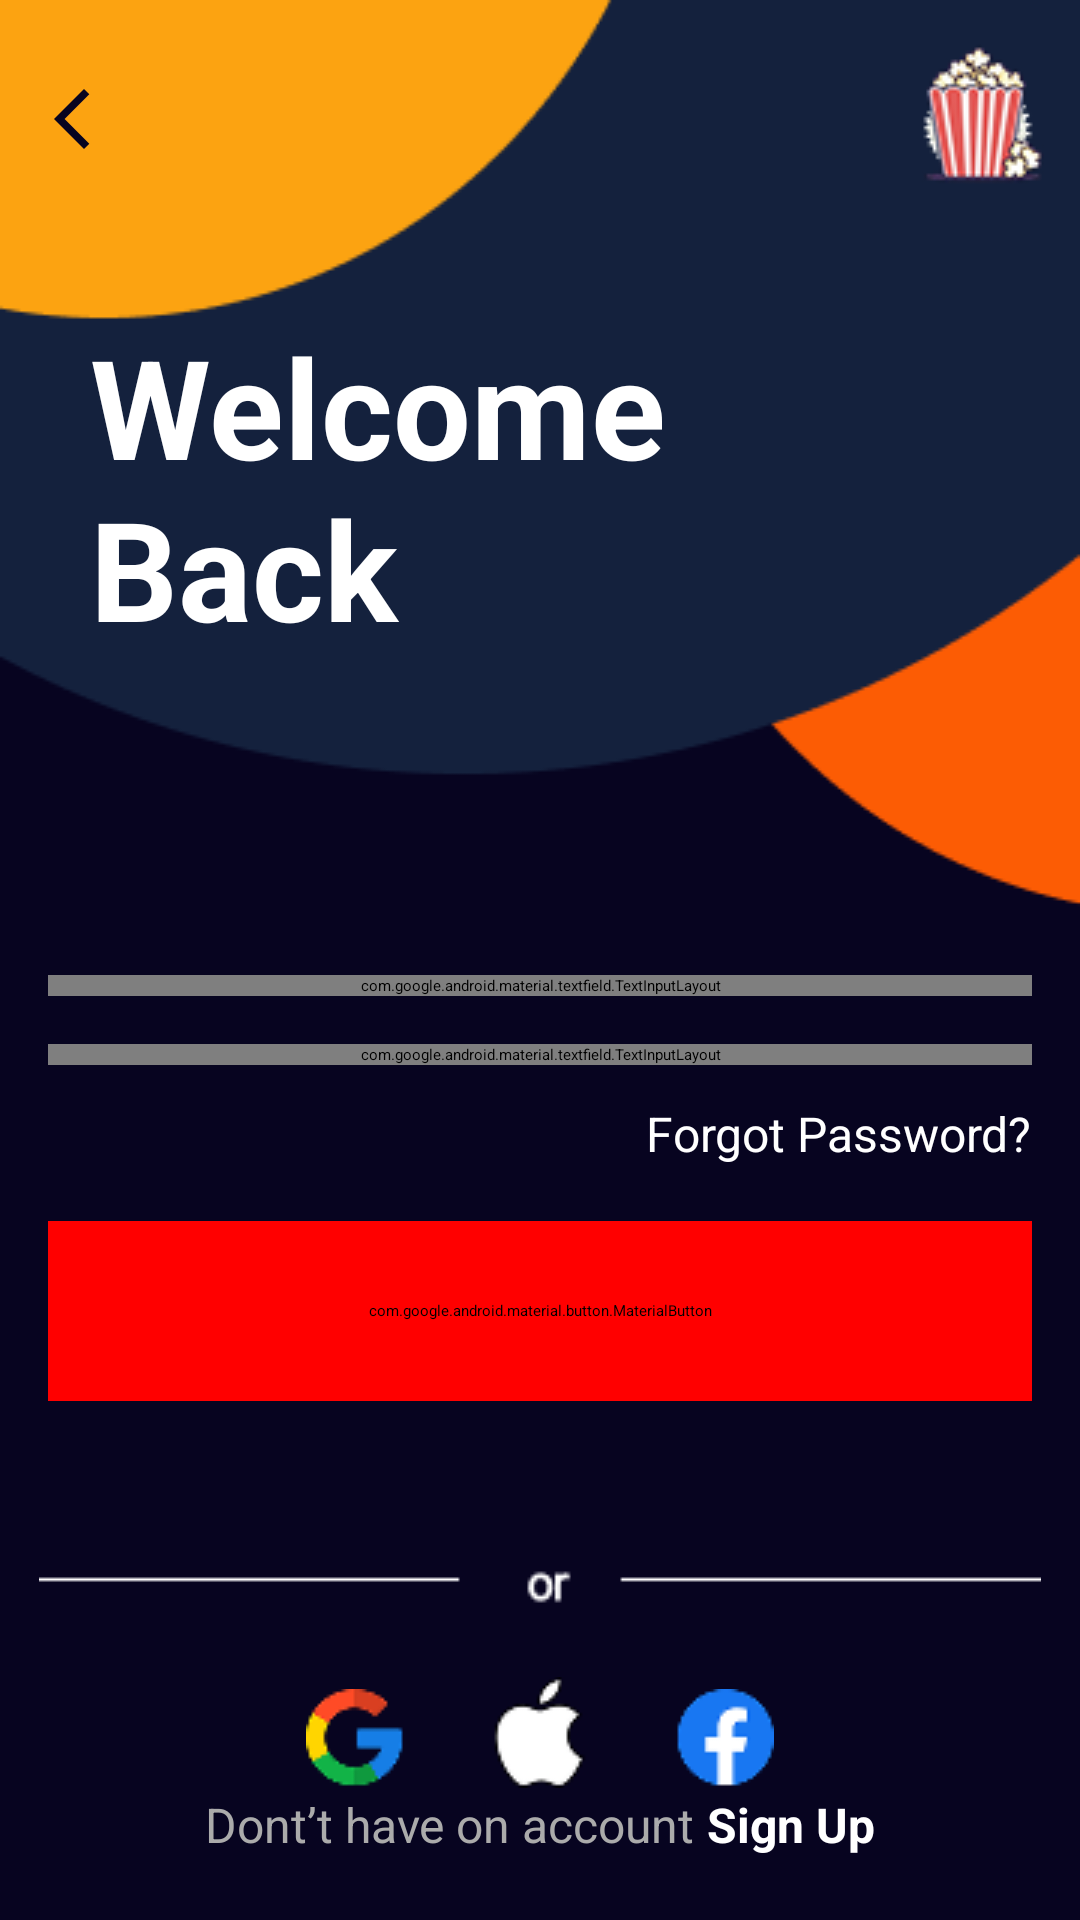

Screen size 1080px x 1920px. Icon name, then its center in pixels as (x,y):
arrow: (71,119)
popcorn: (982,113)
